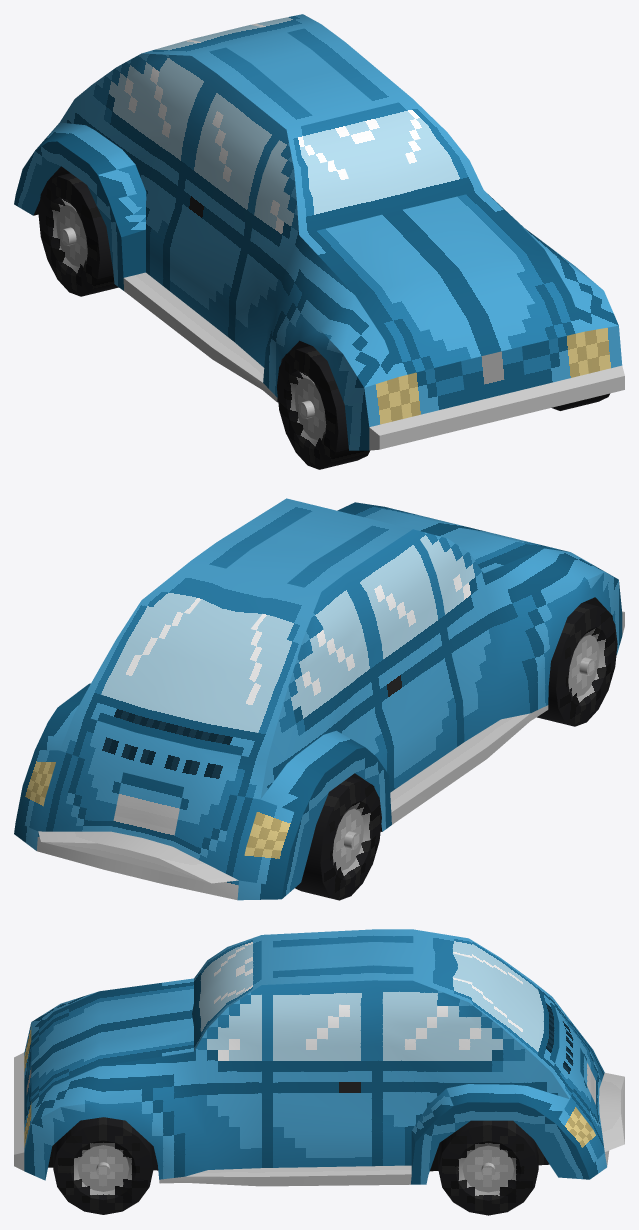
File: Fusca.fbx
The picture shows the model from 3 angles, top to bottom: view 1: azimuth 30°, elevation 25°; view 2: azimuth 150°, elevation 25°; view 3: azimuth 270°, elevation 25°; orthographic projection. The views are drawn at different scales.
Visible parts, largest first — view 1: Fusca; view 2: Fusca; view 3: Fusca.
Boxes of the visible parts, x1,y1,x2,y2 form: Fusca: (14, 14, 624, 469); Fusca: (14, 498, 624, 900); Fusca: (14, 929, 624, 1215).
Bounding box in the file's own units: 78.24 × 65.15 × 175.
Materials: 1 (1 with a texture image).
